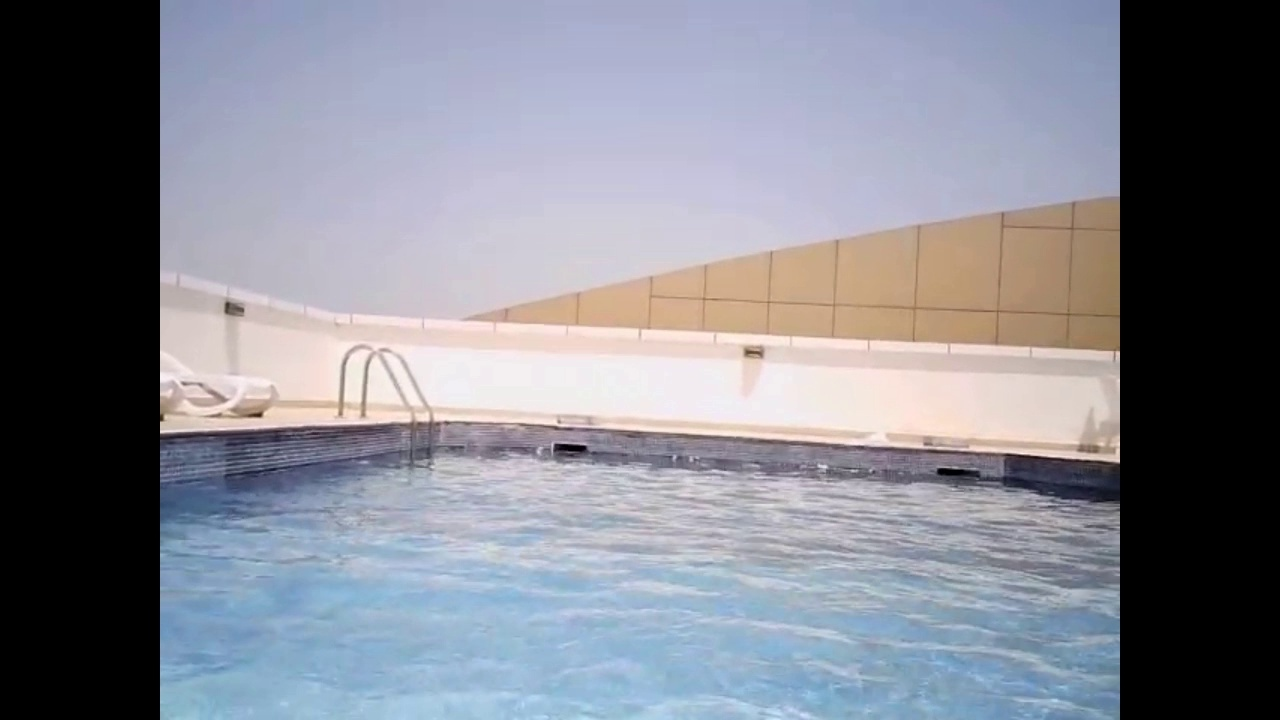debris: (812, 460, 832, 475), (682, 452, 705, 465), (531, 442, 547, 457), (862, 465, 879, 479), (668, 449, 680, 461)
